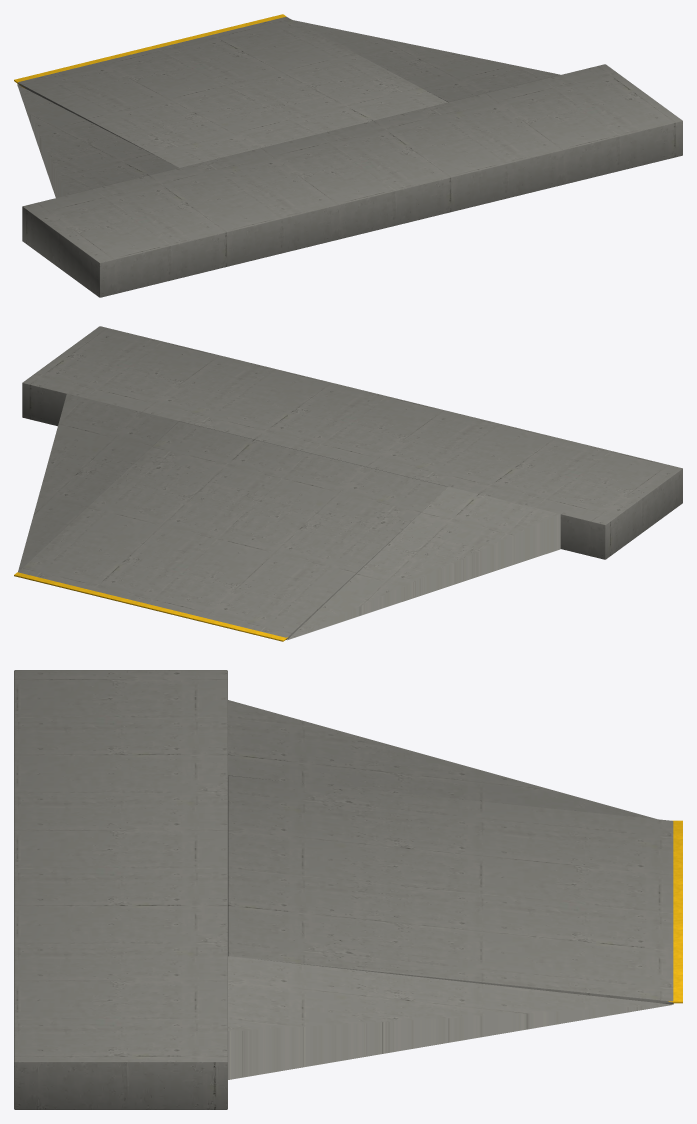
File: PAV-CAL-002.glb
3 renders of one model, top to bottom at view 1: azimuth 30°, elevation 25°; view 2: azimuth 150°, elevation 25°; view 3: azimuth 270°, elevation 25°, orthographic. The views are drawn at different scales.
Parts seen in each view (by area): view 1: PAV-CAL-002_calcada, PAV-CAL-002_rampa, PAV-CAL-002_aba0, PAV-CAL-002_aba2, PAV-CAL-002_tatil; view 2: PAV-CAL-002_rampa, PAV-CAL-002_calcada, PAV-CAL-002_aba0, PAV-CAL-002_aba2, PAV-CAL-002_tatil; view 3: PAV-CAL-002_calcada, PAV-CAL-002_rampa, PAV-CAL-002_aba2, PAV-CAL-002_aba0, PAV-CAL-002_tatil.
Boxes of the visible parts, x1,y1,x2,y2 form: PAV-CAL-002_calcada: (22,64,682,297); PAV-CAL-002_rampa: (17,17,447,167); PAV-CAL-002_aba0: (17,84,178,197); PAV-CAL-002_aba2: (293,20,560,102); PAV-CAL-002_tatil: (14,14,286,88); PAV-CAL-002_rampa: (18,421,447,639); PAV-CAL-002_calcada: (22,326,682,559); PAV-CAL-002_aba0: (287,486,560,640); PAV-CAL-002_aba2: (18,393,178,571); PAV-CAL-002_tatil: (14,572,287,641); PAV-CAL-002_calcada: (14,670,227,1109); PAV-CAL-002_rampa: (228,776,673,1004); PAV-CAL-002_aba2: (228,956,673,1079); PAV-CAL-002_aba0: (228,700,656,819); PAV-CAL-002_tatil: (668,820,682,1003).
Size of the model in its own units: 2.6 by 0.15 by 1.88.
Materials: 2 (2 with a texture image).
